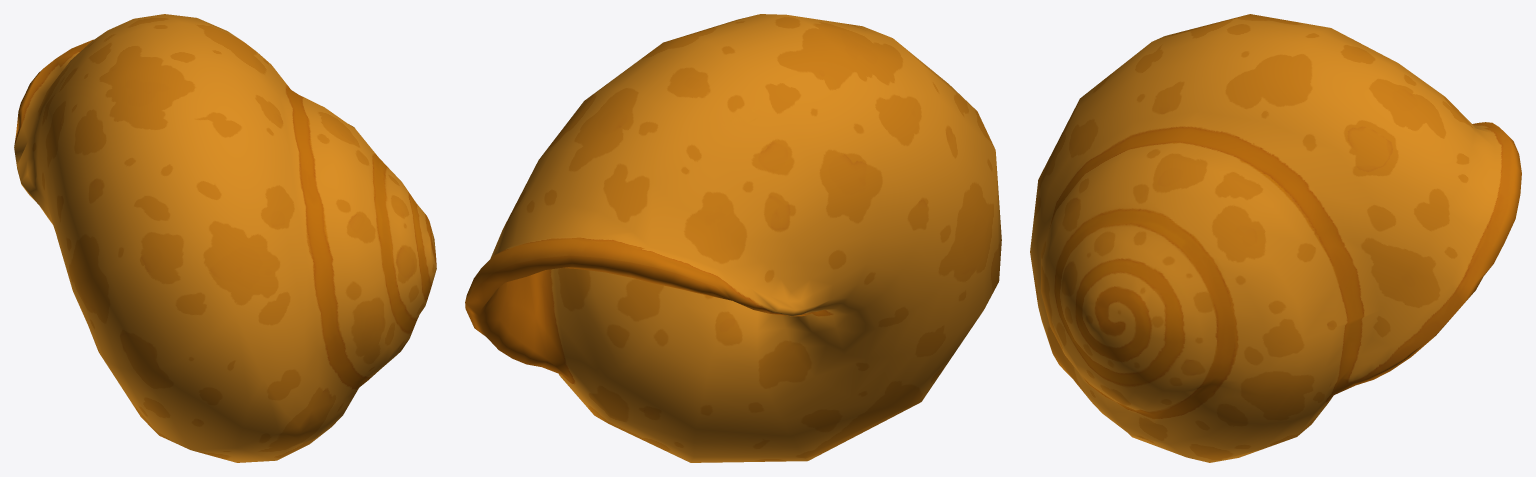
The model's file is snail shell.fbx.
The picture shows the model from 3 angles, left to right: view 1: azimuth 30°, elevation 25°; view 2: azimuth 150°, elevation 25°; view 3: azimuth 270°, elevation 25°; orthographic projection. The views are drawn at different scales.
Parts seen in each view (by area): view 1: _Mesh; view 2: _Mesh; view 3: _Mesh.
Boxes of the visible parts, x1,y1,x2,y2 form: _Mesh: [14, 14, 436, 462]; _Mesh: [465, 14, 1001, 462]; _Mesh: [1030, 14, 1521, 462].
Size of the model in its own units: 21 by 23.36 by 26.6.
